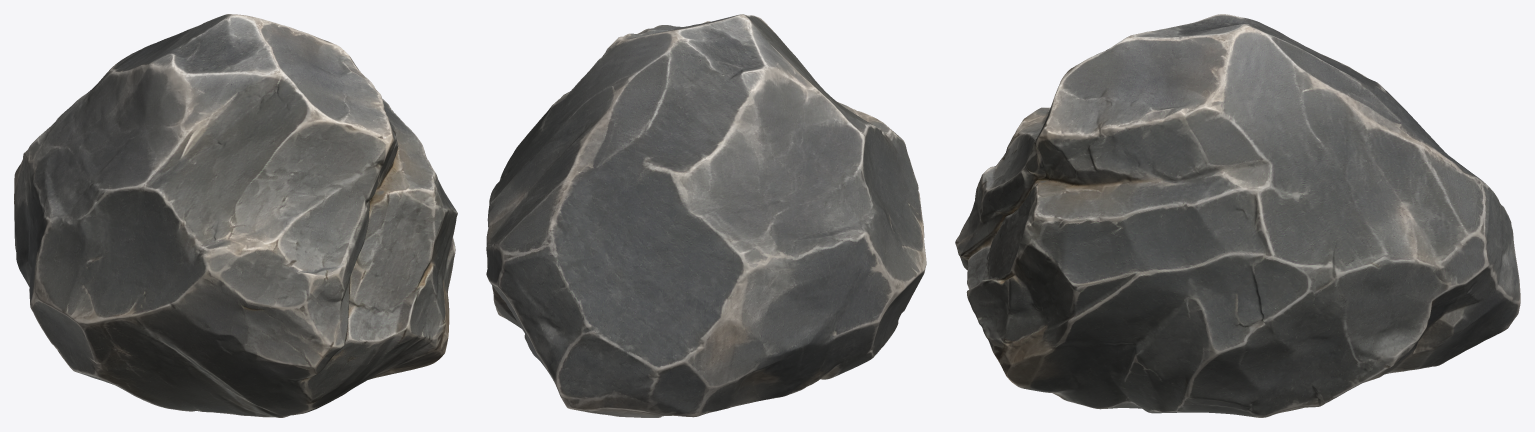
Rendered from Meshy_AI_Faceted_Boulder_0730141124_texture.fbx.
3 renders of one model, left to right at view 1: azimuth 30°, elevation 25°; view 2: azimuth 150°, elevation 25°; view 3: azimuth 270°, elevation 25°, orthographic. The views are drawn at different scales.
Parts seen in each view (by area): view 1: mesh_node; view 2: mesh_node; view 3: mesh_node.
Part boxes in pixels (x1,y1,x2,y2): mesh_node: (14, 14, 457, 417); mesh_node: (486, 14, 926, 417); mesh_node: (955, 14, 1520, 417).
Size of the model in its own units: 158 by 133 by 190.
1 material, 1 textured.
